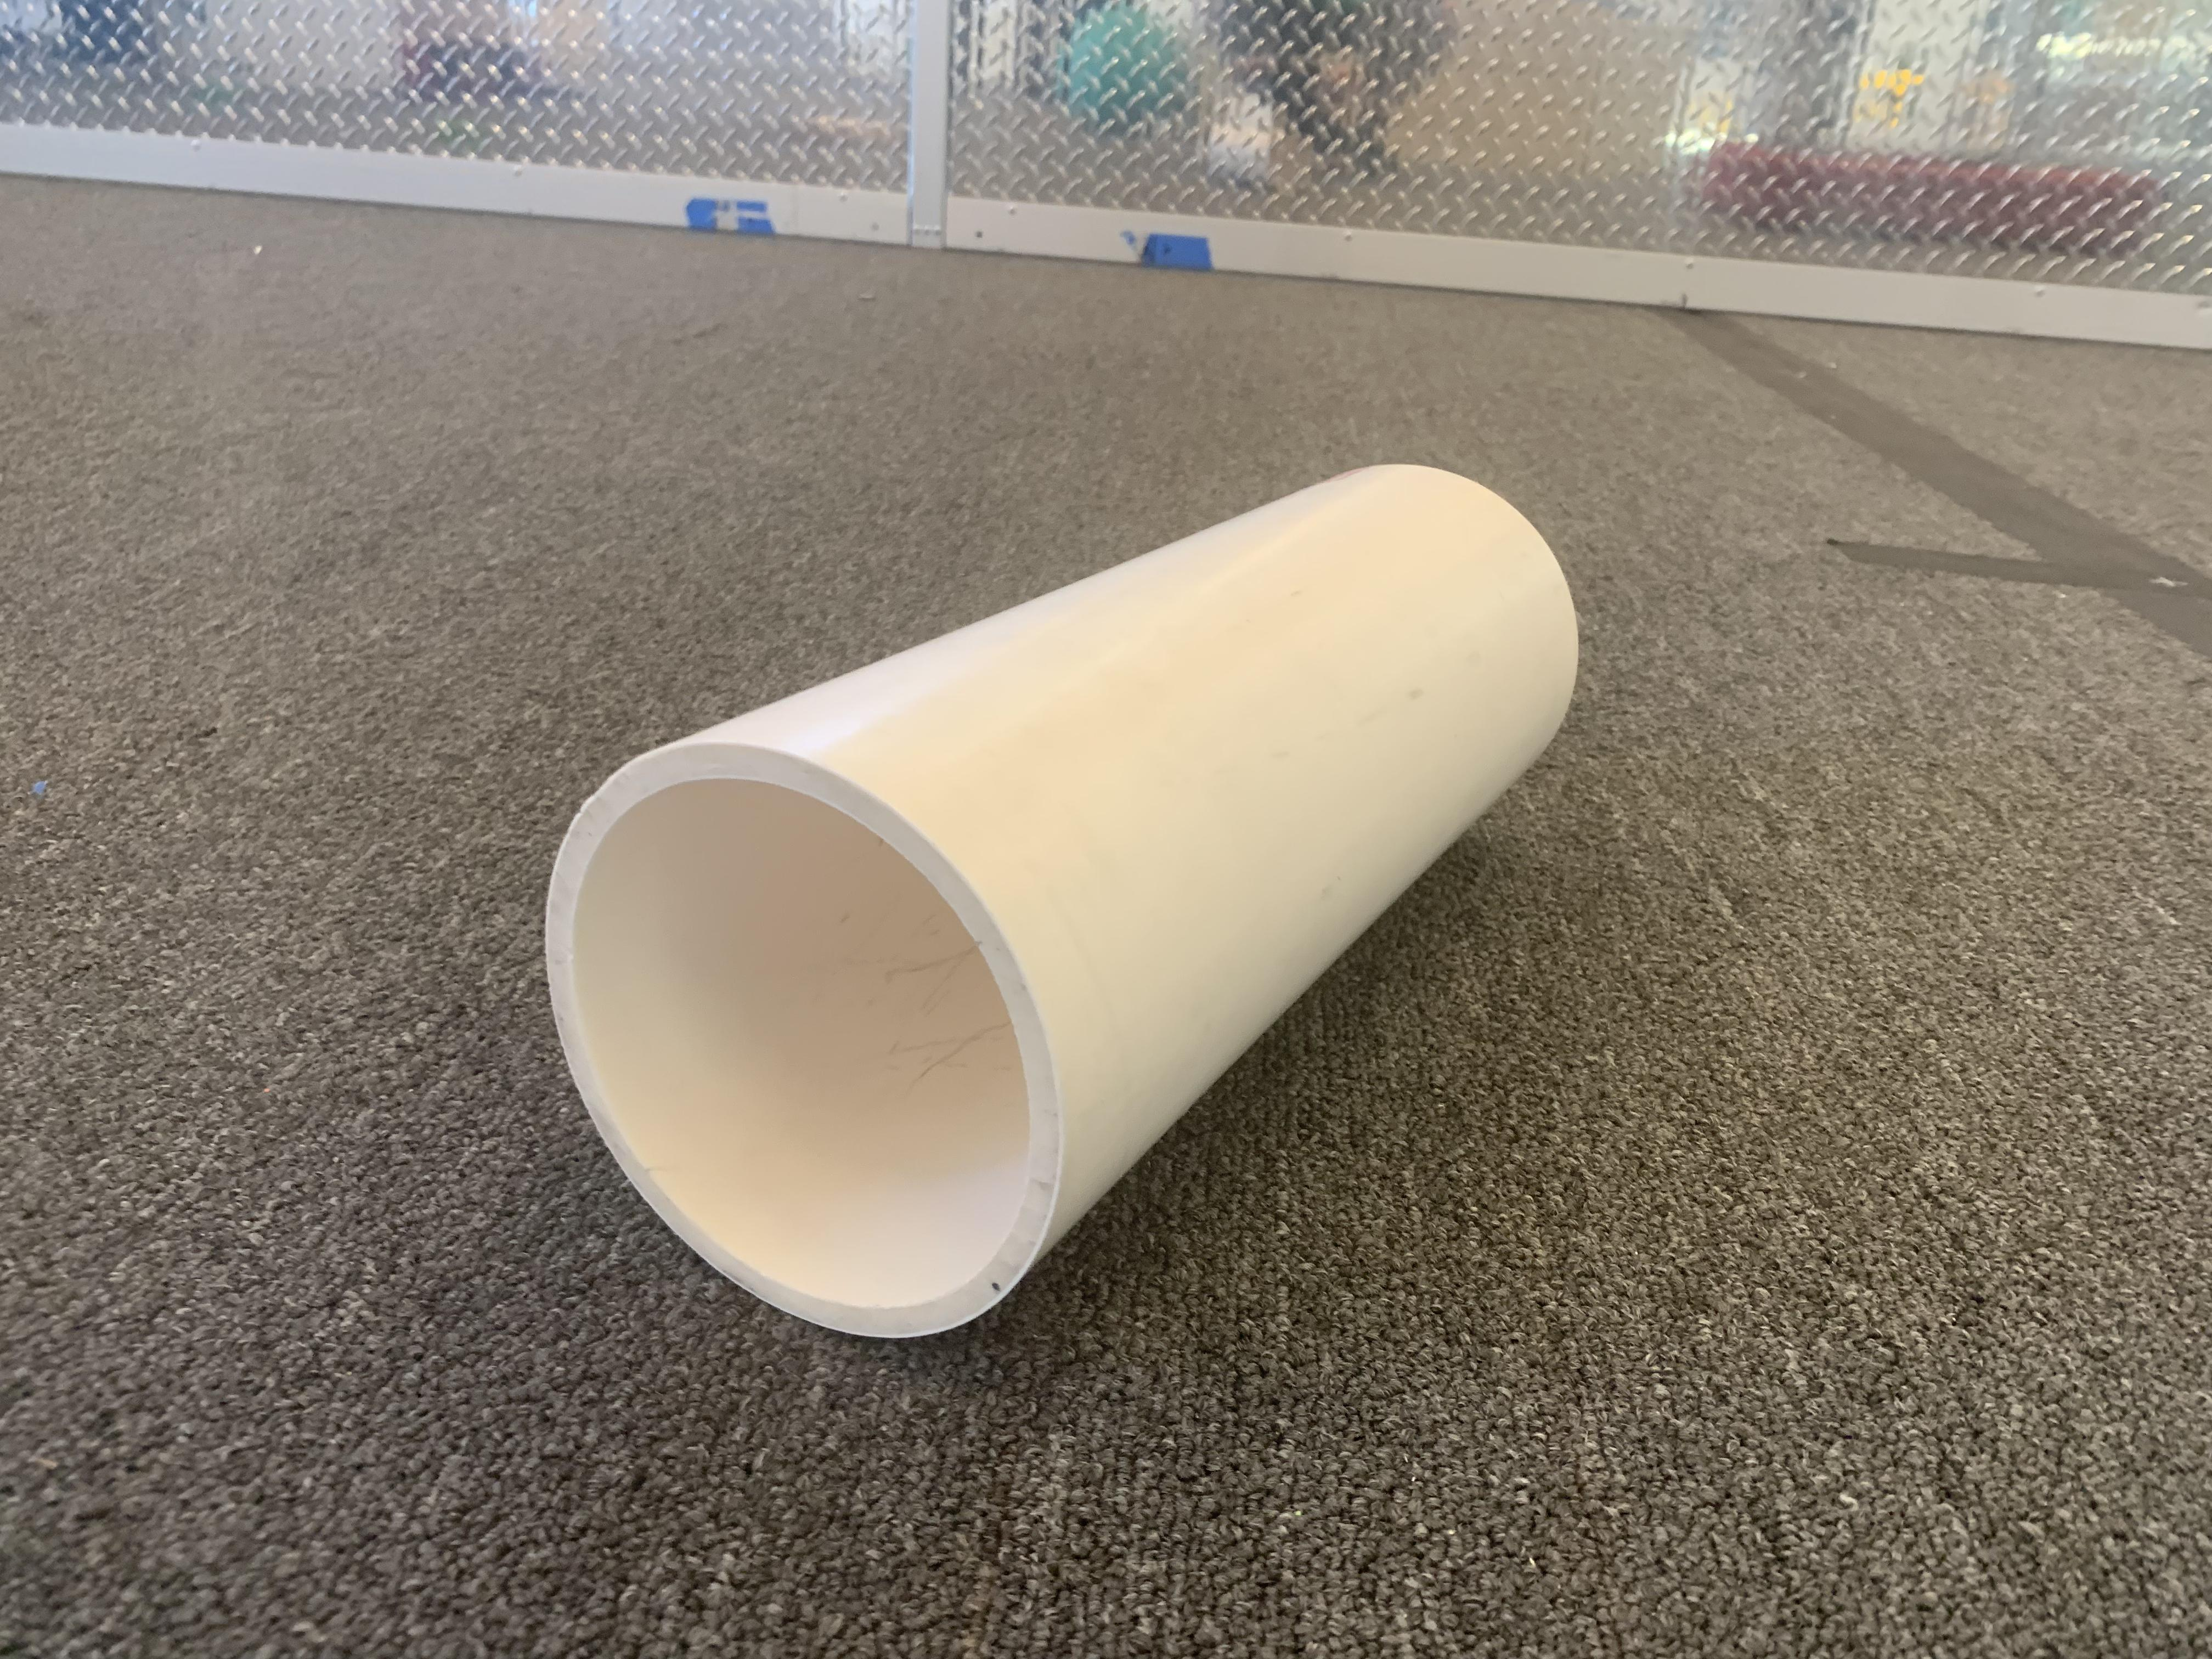coral: (538, 455, 1583, 1342)
